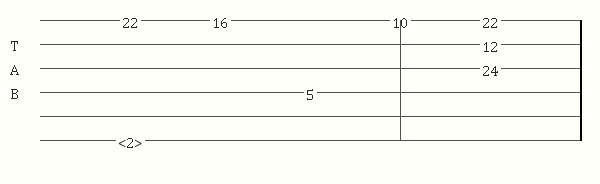10: (392, 13, 412, 27)
12: (482, 37, 502, 51)
16: (212, 13, 232, 27)
22: (122, 13, 142, 27), (482, 13, 502, 27)
24: (482, 61, 502, 75)
5: (306, 85, 318, 100)
harmonic: (118, 133, 146, 147)
